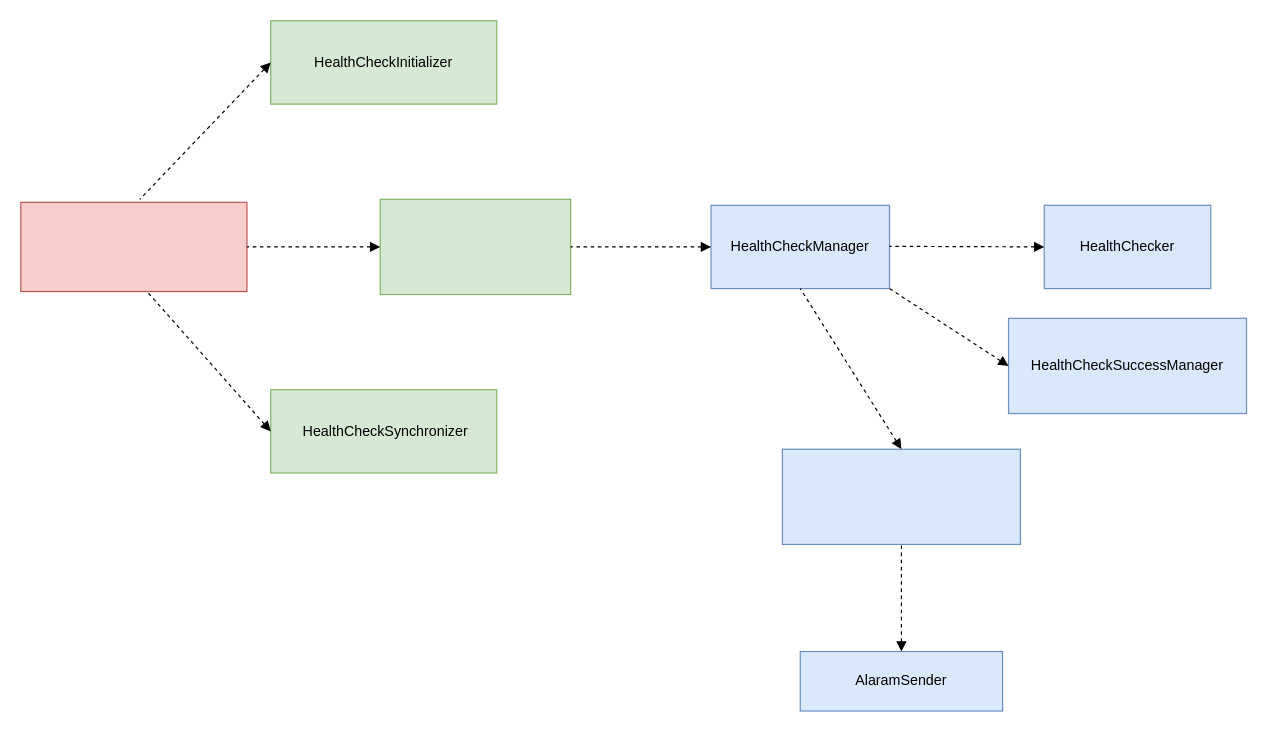
This 1267x732 diagram has some shape labels left out. The shapes that lost their labels are listed below. From the top down, each one's centre as x and y in pixels, then its label:
At (133,246): "HealthCheckTimeExaminer".
At (475,246): "HealthCheckRequestor".
At (900,496): "HealthCheckFailManager".
